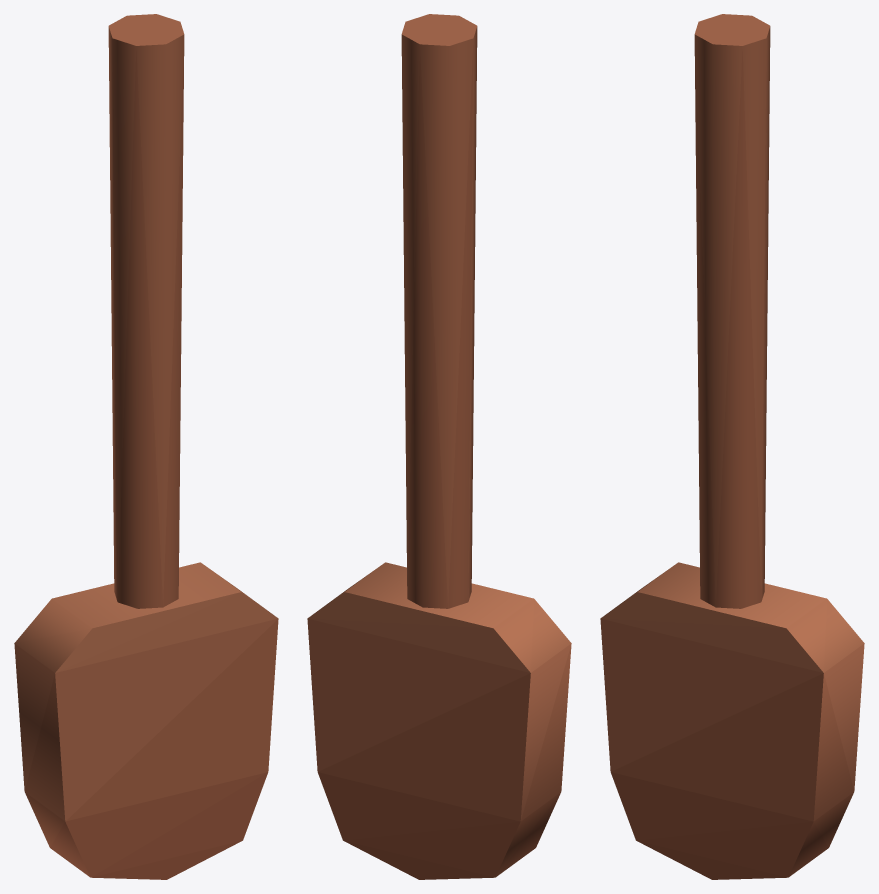
The model's file is pirate_tool_paddle.glb.
The picture shows the model from 3 angles, left to right: view 1: azimuth 30°, elevation 25°; view 2: azimuth 150°, elevation 25°; view 3: azimuth 330°, elevation 25°; orthographic projection.
Visible parts, largest first — view 1: pirate_tool_paddle; view 2: pirate_tool_paddle; view 3: pirate_tool_paddle.
Boxes of the visible parts, bbox=[...] form: pirate_tool_paddle: bbox=[14, 14, 278, 879]; pirate_tool_paddle: bbox=[307, 14, 571, 879]; pirate_tool_paddle: bbox=[600, 14, 864, 879].
Size of the model in its own units: 0.6578 by 2.35 by 0.2075.
